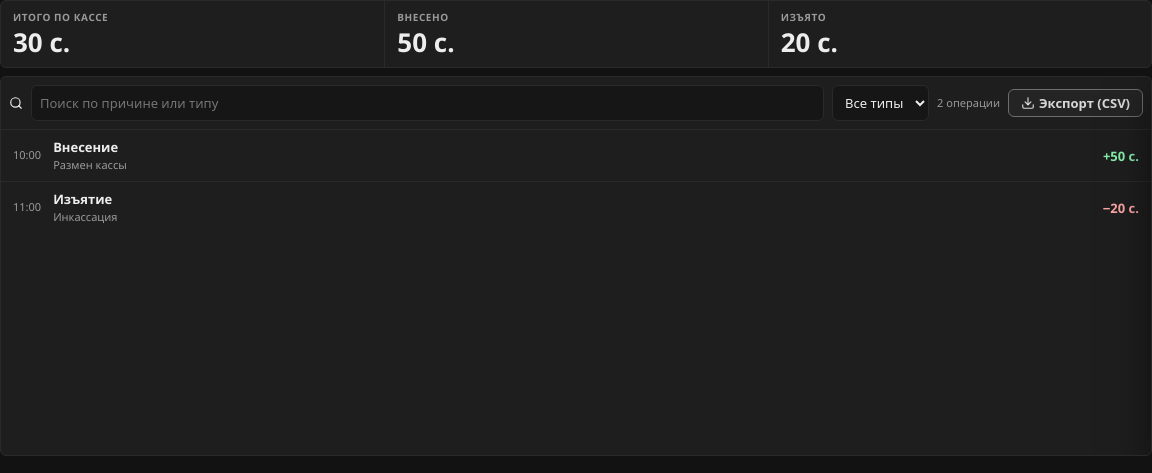
Test: CashOperationsLedger › показывает контекст выбранной операции в стабильном инспекторе
Click the row "11:00 Изъятие Инкассация −20 с." at (576, 207), box left=1, top=181, right=1151, bottom=233
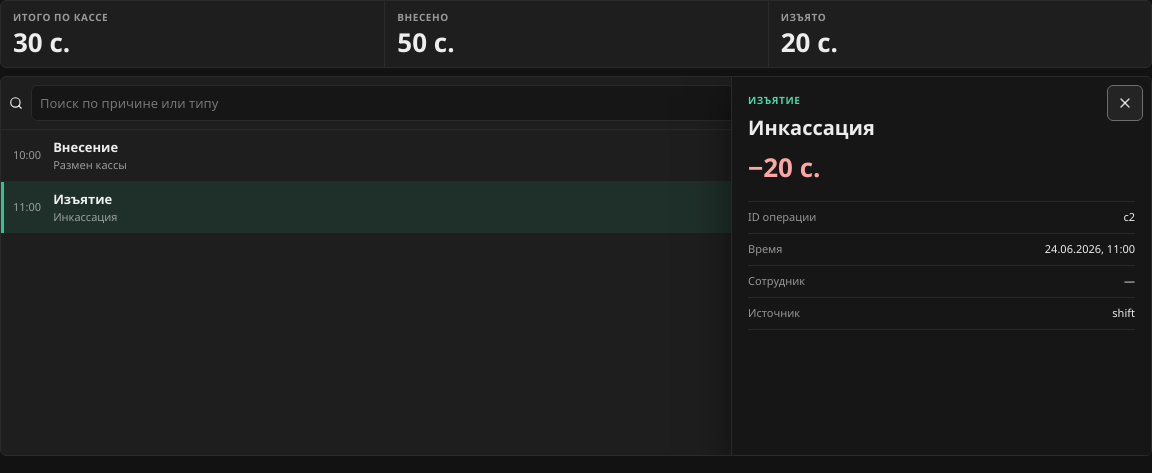
expect the element named "Детали выбранной записи" shows "Инкассация": met, box left=748, top=114, right=875, bottom=141
expect the element named "Детали выбранной записи" shows "c2": met, box left=1123, top=210, right=1135, bottom=225
